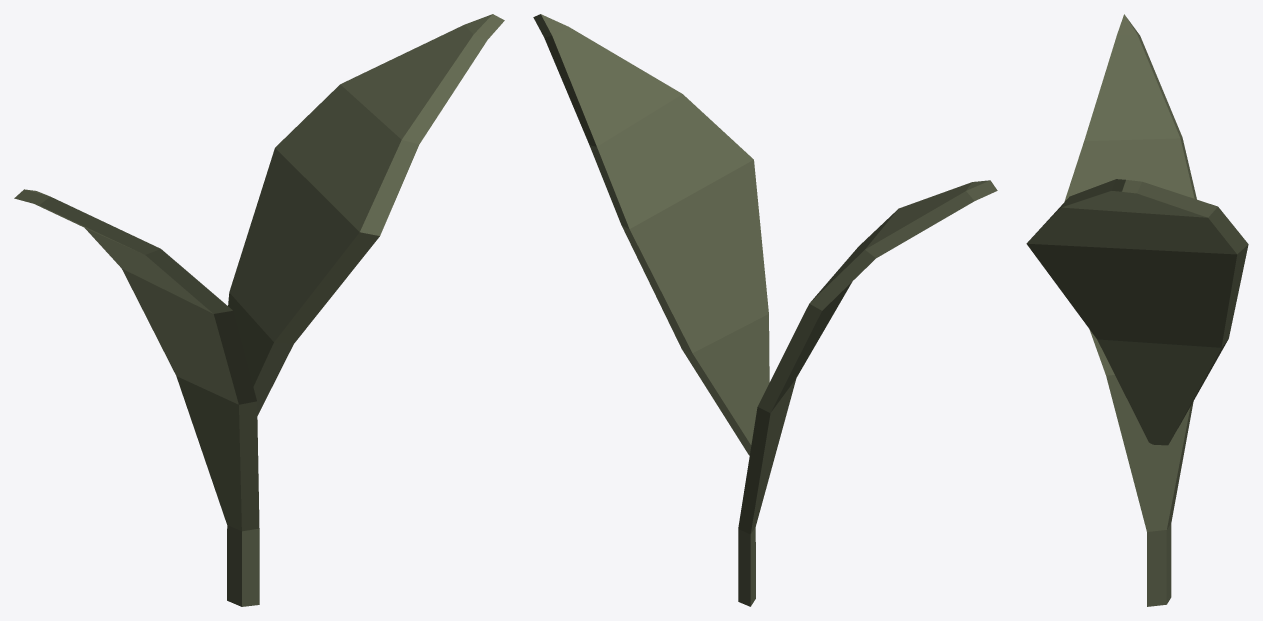
File: lettuce_1.gltf
The picture shows the model from 3 angles, left to right: view 1: azimuth 30°, elevation 25°; view 2: azimuth 150°, elevation 25°; view 3: azimuth 270°, elevation 25°; orthographic projection. The views are drawn at different scales.
Parts seen in each view (by area): view 1: lettuce_1; view 2: lettuce_1; view 3: lettuce_1.
Boxes of the visible parts, x1=… form: lettuce_1: x1=14, y1=14, x2=504, y2=606; lettuce_1: x1=533, y1=14, x2=997, y2=606; lettuce_1: x1=1026, y1=14, x2=1248, y2=606.
Size of the model in its own units: 0.2761 by 0.2941 by 0.111.
1 material, 1 textured.
